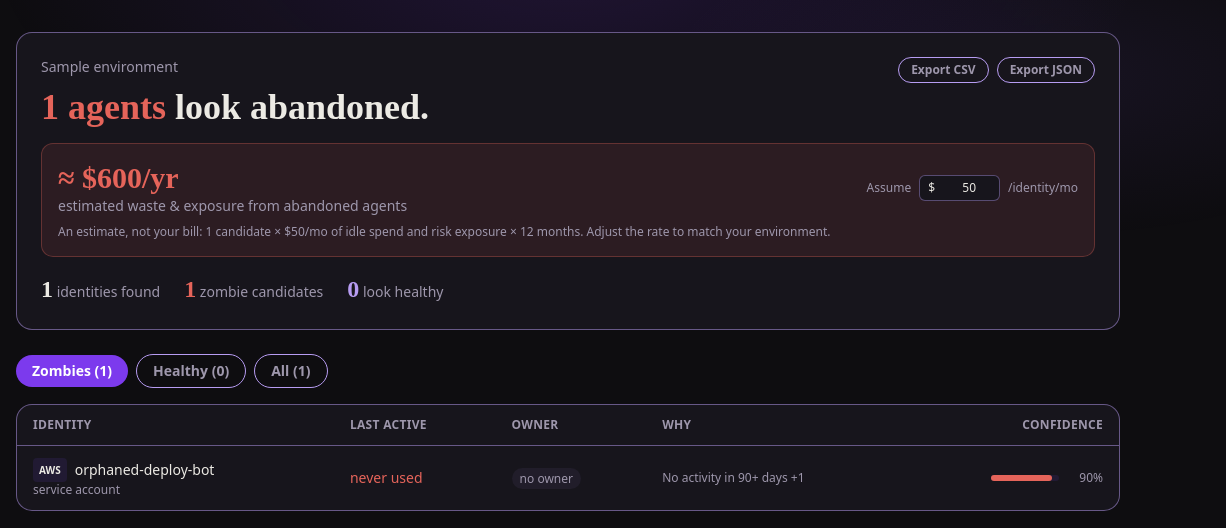
Test: ResultsDashboard › recomputes the estimate when the cost assumption changes
Replace the text in the number field named "assumed monthly cost per abandoned identity" with "100" at (963, 188), box [935,180,991,196]
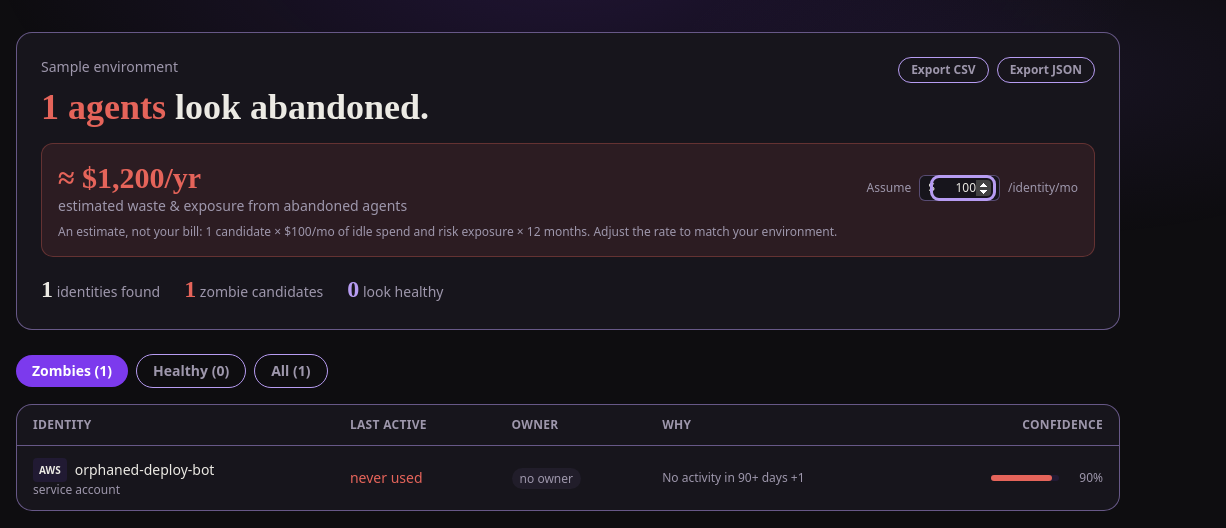
expect the text "$600/yr" is not shown: met
expect the text "≈ $1,200/yr" is shown: met, box [58,161,201,194]
